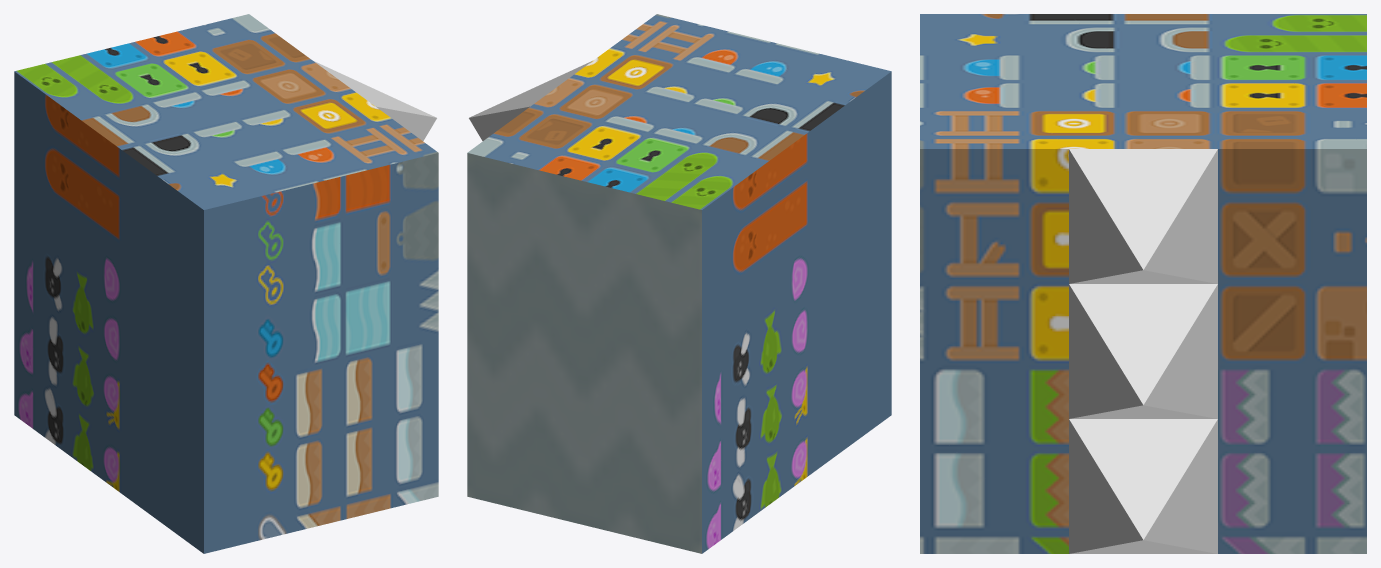
The model's file is Pike.fbx.
The picture shows the model from 3 angles, left to right: view 1: azimuth 30°, elevation 25°; view 2: azimuth 150°, elevation 25°; view 3: azimuth 270°, elevation 25°; orthographic projection. The views are drawn at different scales.
Parts seen in each view (by area): view 1: Cube; view 2: Cube; view 3: Cube.
Part boxes in pixels (bbox=[...]): Cube: bbox=[14, 14, 438, 553]; Cube: bbox=[467, 14, 891, 553]; Cube: bbox=[920, 14, 1366, 553].
Bounding box in the file's own units: 1 × 1 × 1.
